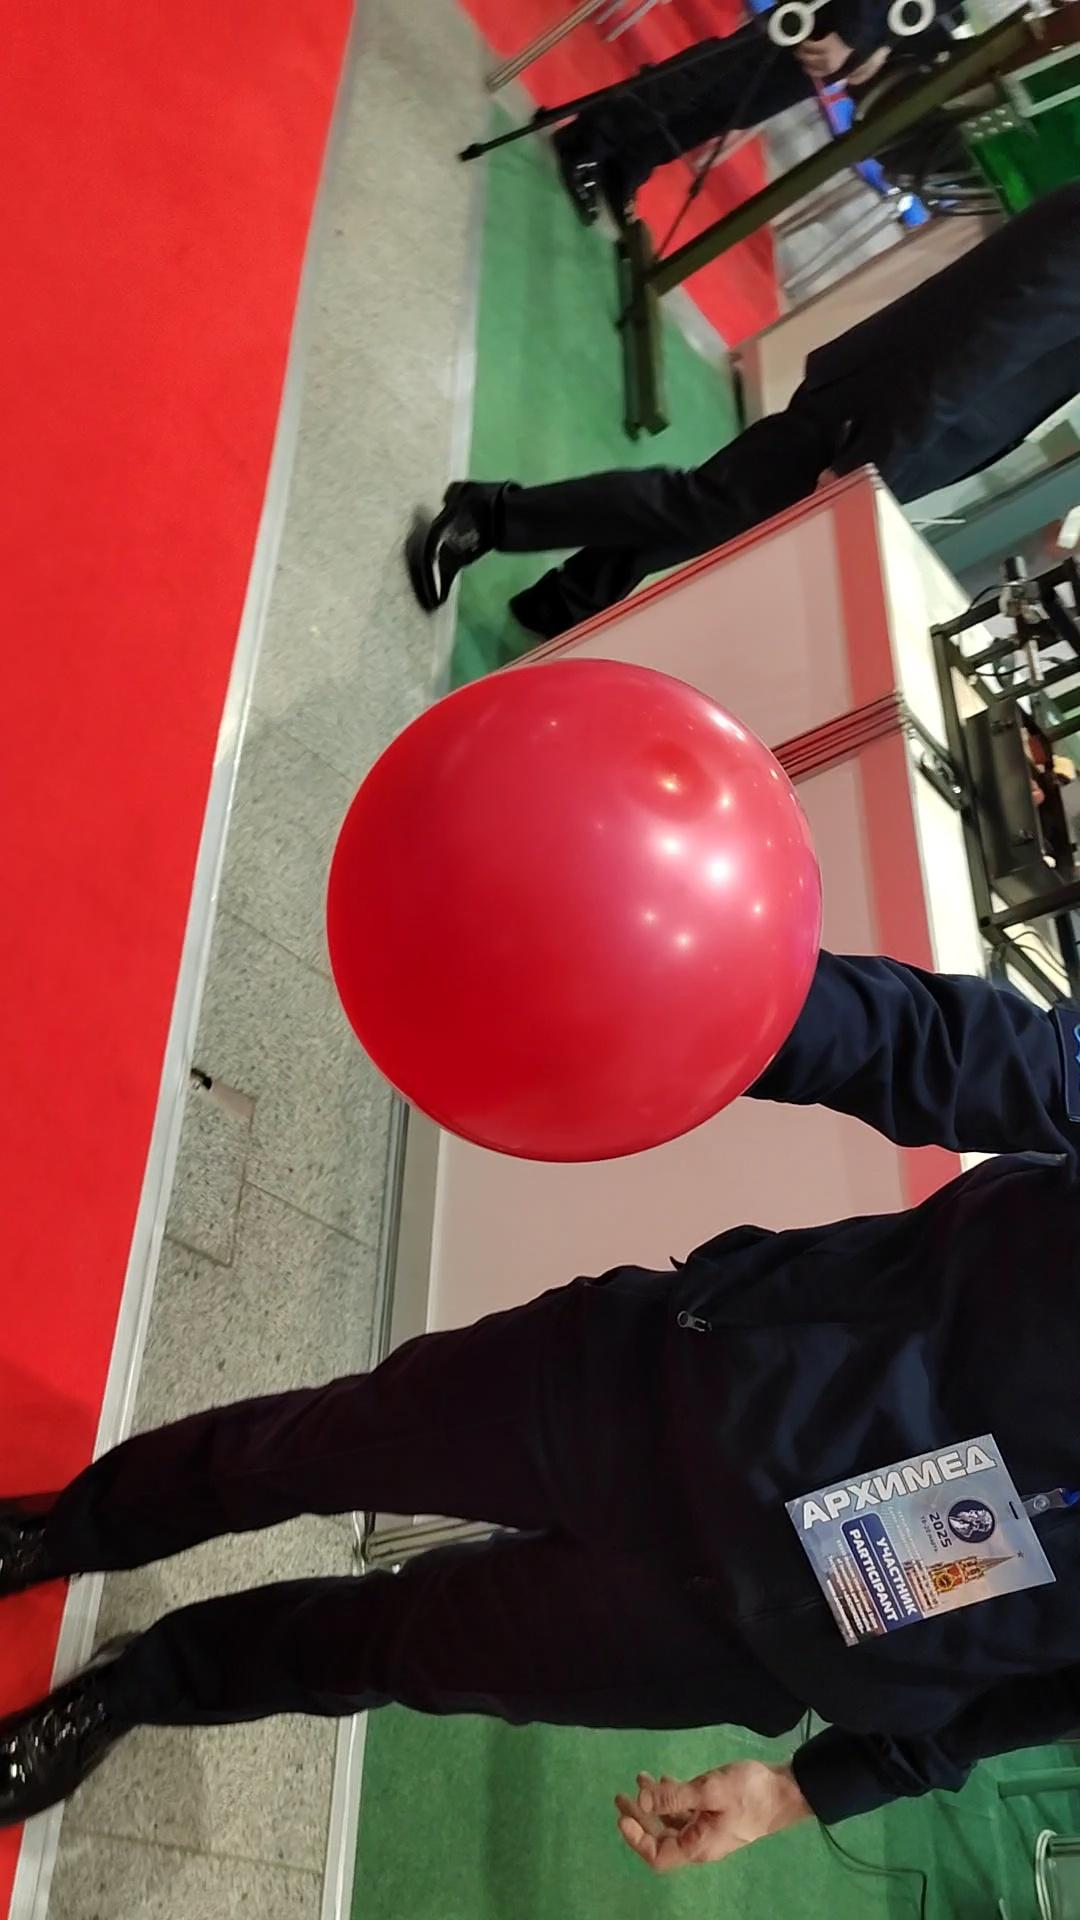red: (307, 657, 840, 1164)
